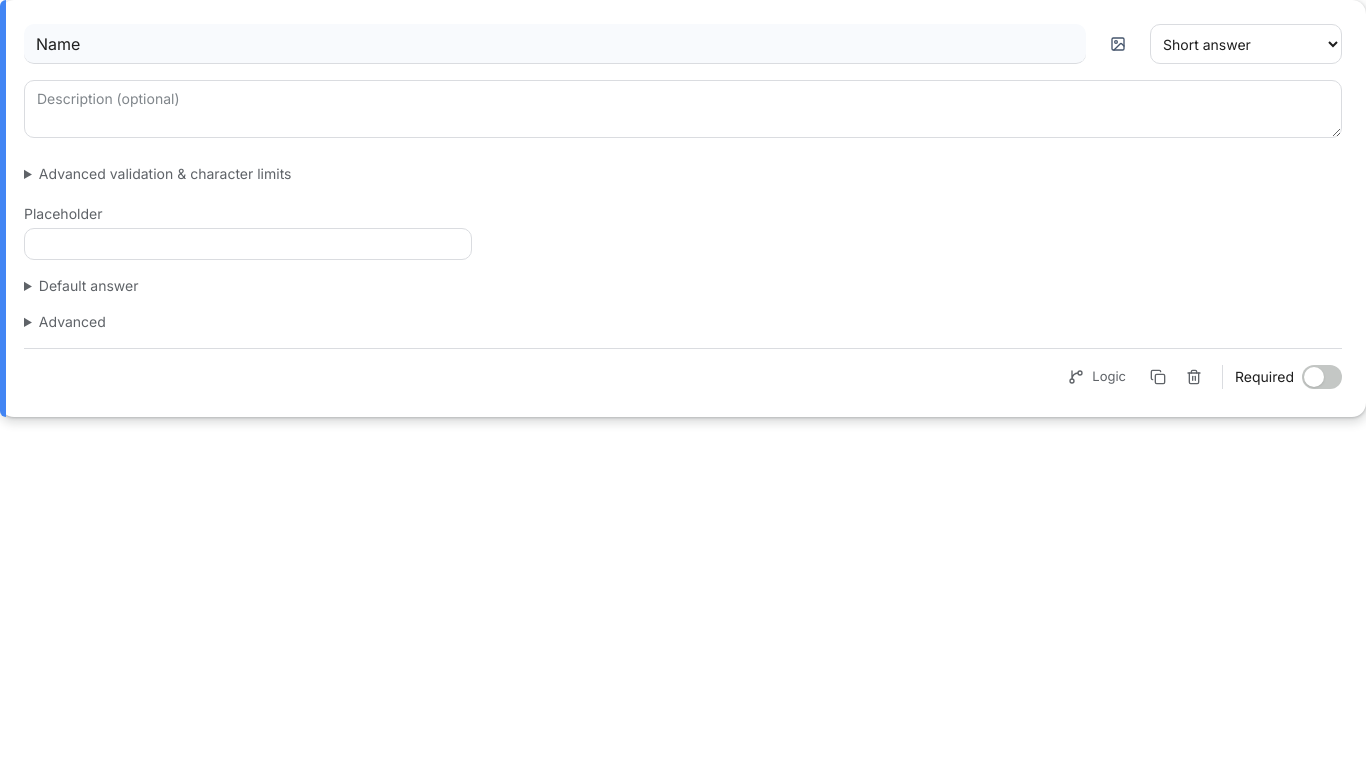
Test: deleting a question that has answers › asks without the number when the answer count takes too long
The width and height of the screenshot is (1366, 768).
Click the button named "Delete". click: [1194, 377]
box: 1178,361 -> 1210,393
Wait 5000 ms
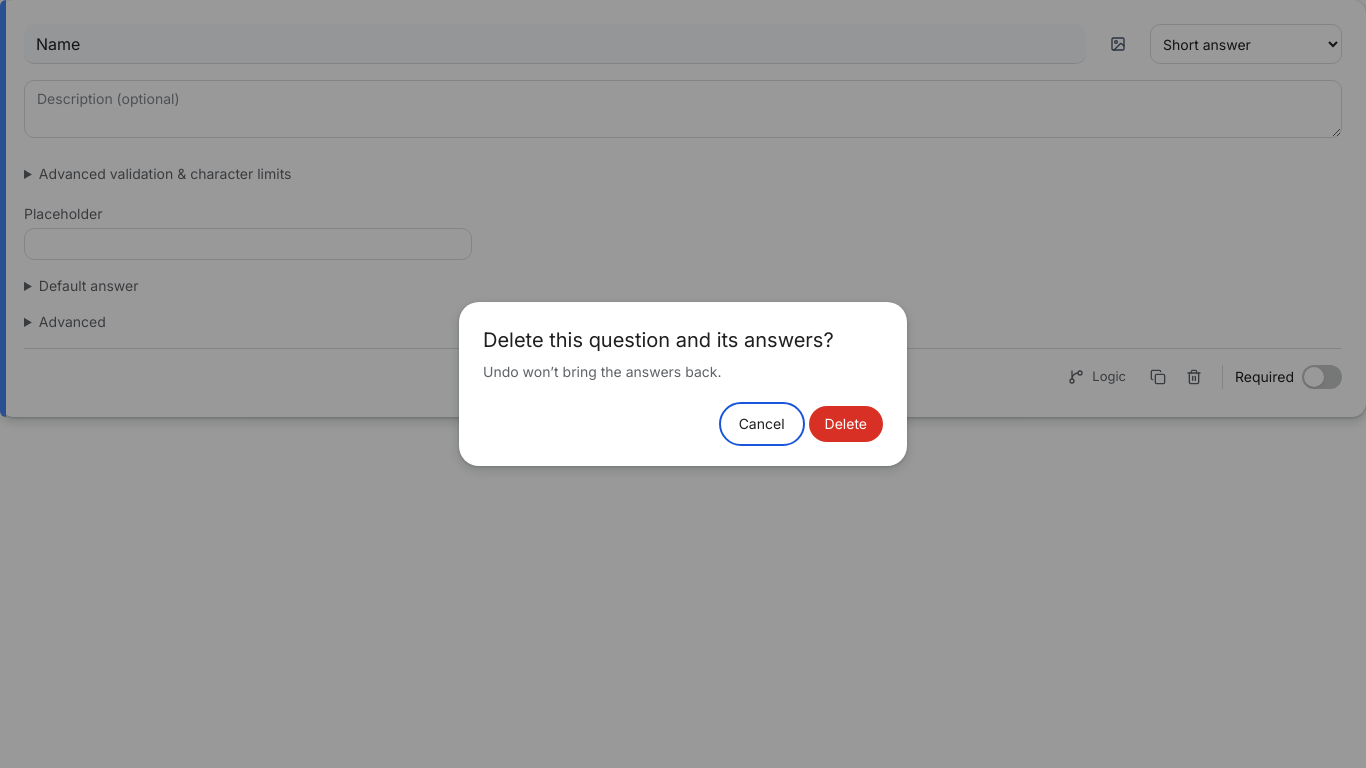
Result: the dialog shows "Delete this question and its answers?" at 483,328 -> 834,352
